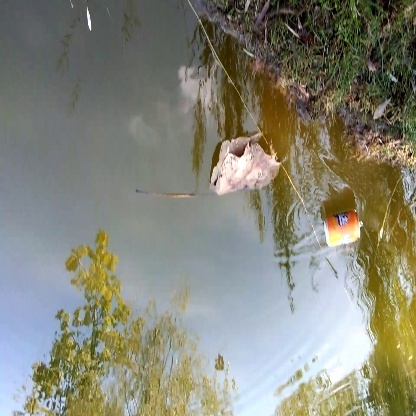leaf: (196, 130, 288, 201)
